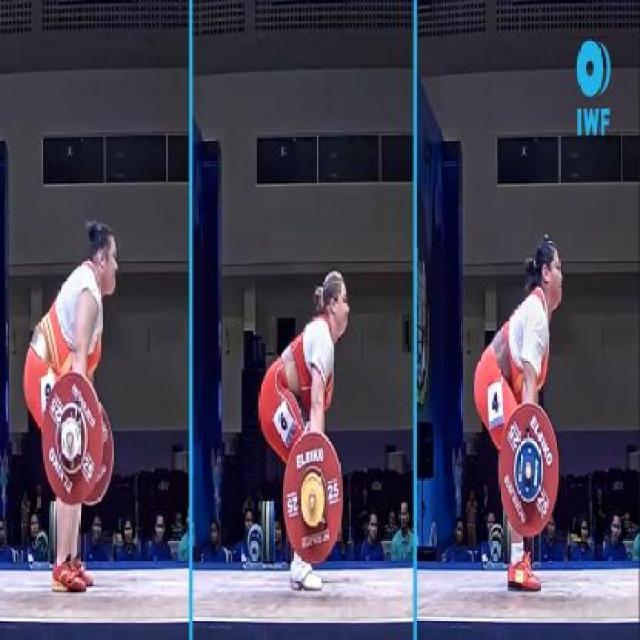Barbell: (511, 426, 547, 512), (60, 409, 86, 466), (302, 474, 328, 528)
